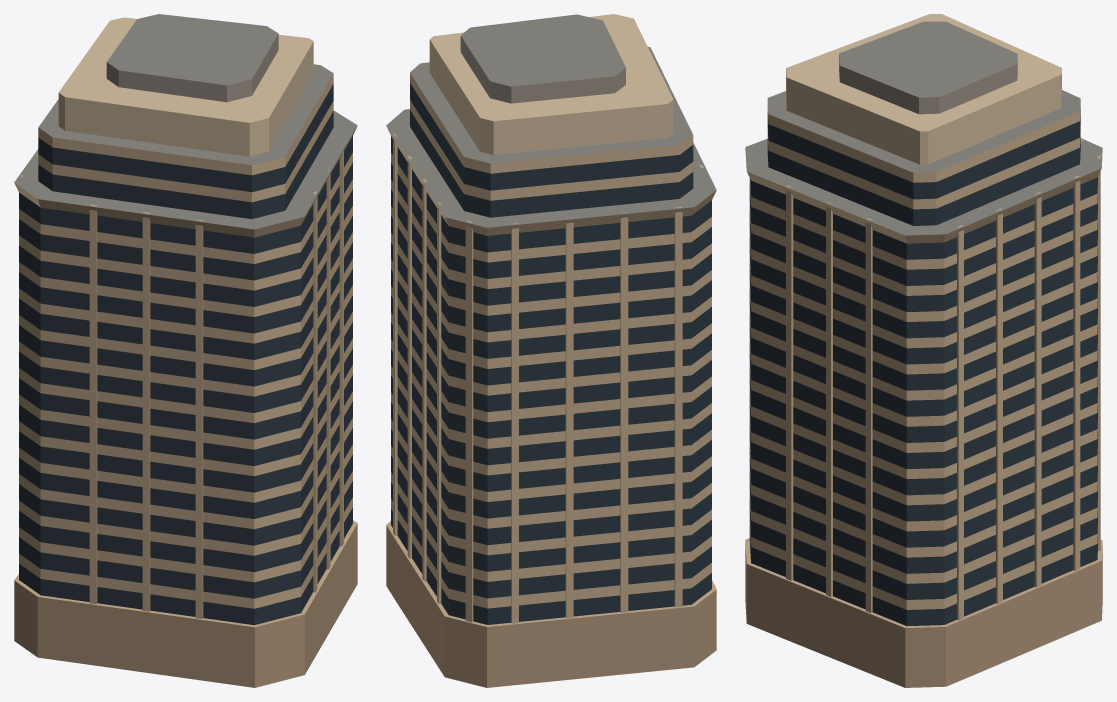
Rendered from wells_fargo_tower_w156624462.glb.
3 renders of one model, left to right at view 1: azimuth 30°, elevation 25°; view 2: azimuth 150°, elevation 25°; view 3: azimuth 270°, elevation 25°, orthographic.
Parts seen in each view (by area): view 1: Tower; view 2: Tower; view 3: Tower.
Boxes of the visible parts, box(x1,y1,x2,y2) form: Tower: box(14, 14, 357, 687); Tower: box(386, 14, 716, 687); Tower: box(745, 14, 1102, 687).
Size of the model in its own units: 49.09 by 83.5 by 48.69.
